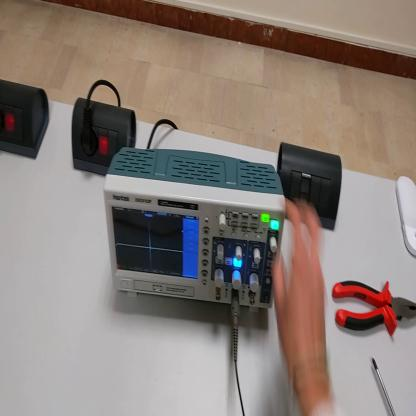hand: (273, 198, 330, 393)
oscilloscope: (102, 146, 283, 312)
pliers: (332, 278, 416, 338)
screwdriver-: (374, 358, 397, 415)
socket: (73, 97, 138, 180), (2, 79, 52, 160)
